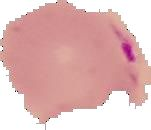parasitized: (73, 14, 142, 85)
